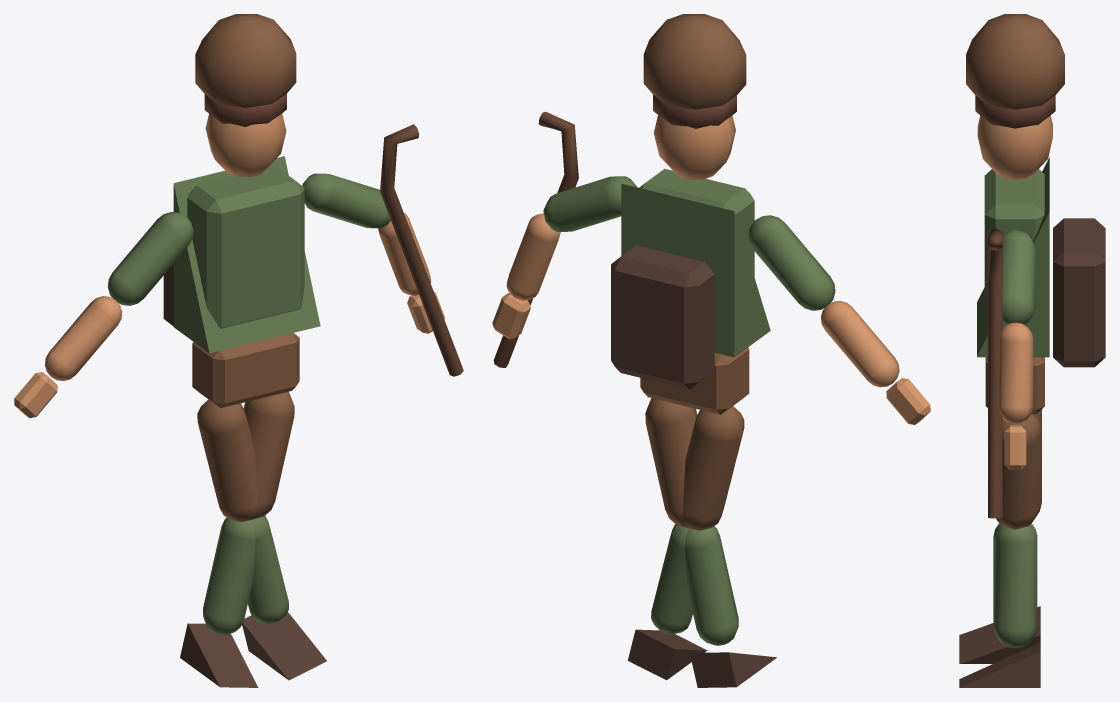
Rendered from adventurer.rustic.glb.
The picture shows the model from 3 angles, left to right: view 1: azimuth 30°, elevation 25°; view 2: azimuth 150°, elevation 25°; view 3: azimuth 270°, elevation 25°; orthographic projection.
Visible parts, largest first — view 1: torso, accessory.head, tunic, pelvis, thigh.left, shin.right, upper-arm.left, accessory.main-hand, thigh.right, head, upper-arm.right, forearm.left (+6 smaller); view 2: accessory.back, tunic, accessory.head, thigh.left, shin.right, upper-arm.left, thigh.right, head, pelvis, forearm.left, upper-arm.right, torso (+8 smaller); view 3: accessory.head, accessory.back, shin.left, accessory.main-hand, torso, head, thigh.right, forearm.right, tunic, upper-arm.right, foot.left, foot.right (+3 smaller).
Part boxes in pixels (x1=…): torso: x1=187, y1=166, x2=304, y2=328; accessory.head: x1=195, y1=14, x2=296, y2=107; tunic: x1=173, y1=156, x2=320, y2=353; pelvis: x1=192, y1=333, x2=299, y2=408; thigh.left: x1=197, y1=399, x2=257, y2=521; shin.right: x1=203, y1=518, x2=255, y2=635; upper-arm.left: x1=107, y1=212, x2=193, y2=305; accessory.main-hand: x1=380, y1=124, x2=463, y2=376; thigh.right: x1=243, y1=391, x2=294, y2=519; head: x1=205, y1=113, x2=286, y2=177; upper-arm.right: x1=302, y1=173, x2=390, y2=228; forearm.left: x1=45, y1=296, x2=122, y2=380; accessory.back: x1=611, y1=245, x2=714, y2=389; tunic: x1=621, y1=183, x2=770, y2=357; accessory.head: x1=643, y1=14, x2=746, y2=109; thigh.left: x1=682, y1=406, x2=744, y2=530; shin.right: x1=685, y1=526, x2=738, y2=645; upper-arm.left: x1=748, y1=215, x2=835, y2=310; thigh.right: x1=645, y1=398, x2=697, y2=528; head: x1=654, y1=115, x2=735, y2=179; pelvis: x1=640, y1=347, x2=749, y2=414; forearm.left: x1=820, y1=301, x2=899, y2=387; upper-arm.right: x1=543, y1=176, x2=636, y2=231; torso: x1=639, y1=168, x2=754, y2=276; accessory.head: x1=966, y1=14, x2=1064, y2=109; accessory.back: x1=1053, y1=218, x2=1105, y2=367; shin.left: x1=993, y1=524, x2=1037, y2=647; accessory.main-hand: x1=988, y1=228, x2=1002, y2=518; torso: x1=984, y1=169, x2=1044, y2=330; head: x1=977, y1=115, x2=1052, y2=179; thigh.right: x1=996, y1=414, x2=1041, y2=529; forearm.right: x1=999, y1=322, x2=1033, y2=423; tunic: x1=977, y1=157, x2=1049, y2=357; upper-arm.right: x1=1002, y1=230, x2=1036, y2=324; foot.left: x1=959, y1=642, x2=1040, y2=687; foot.right: x1=959, y1=606, x2=1040, y2=663.
Size of the model in its own units: 2.31 by 3.28 by 0.665.
